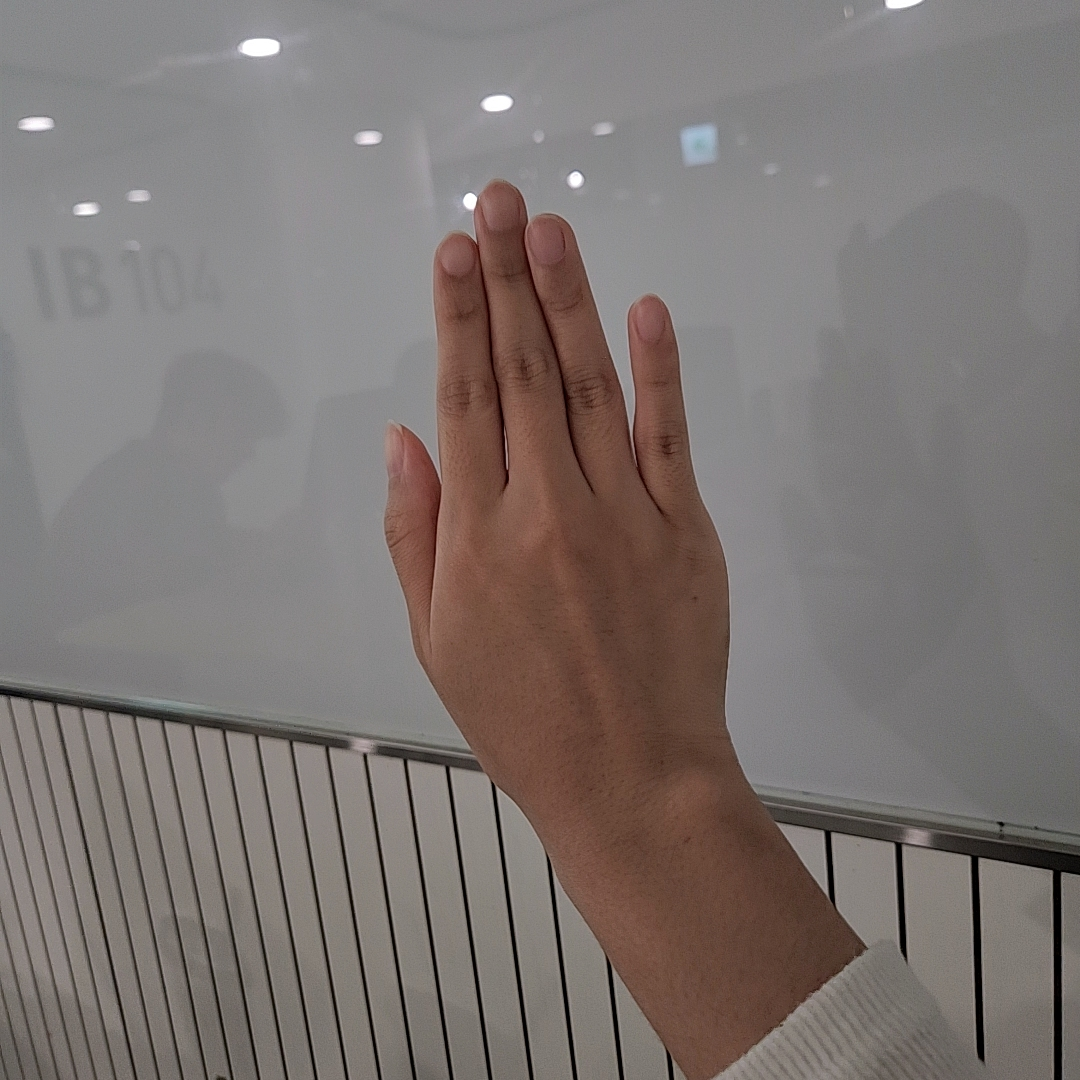me: (381, 172, 734, 811)
